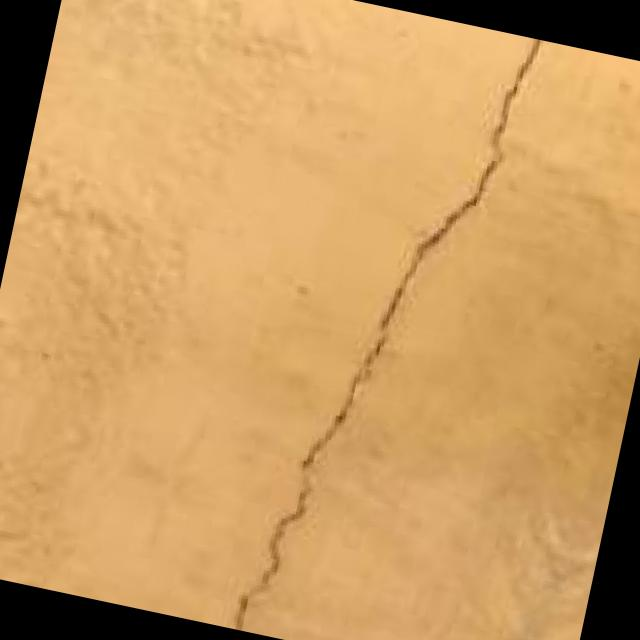crack: (213, 0, 540, 640)
